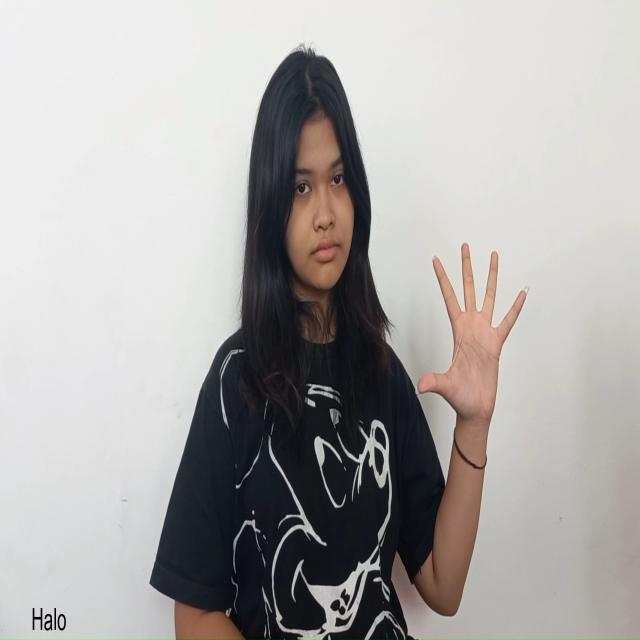Halo -BISINDO-: (416, 242, 528, 432)
